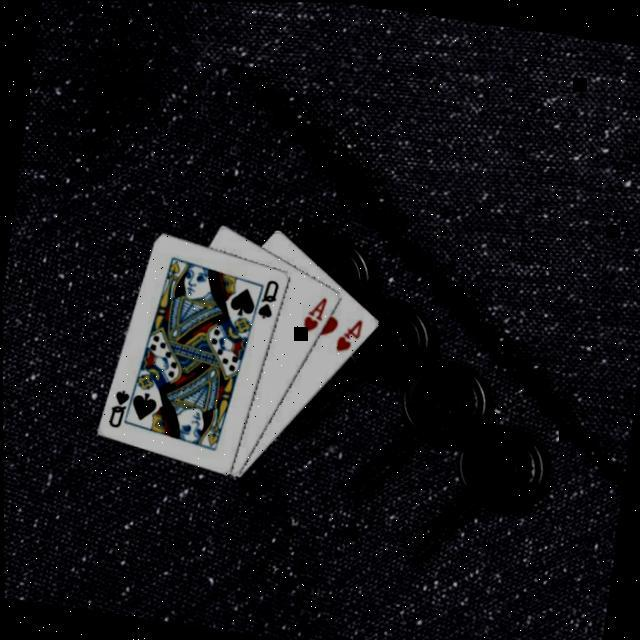4H: (330, 315, 365, 359)
AH: (297, 293, 329, 338)
QS: (253, 276, 281, 325), (103, 387, 131, 434)
